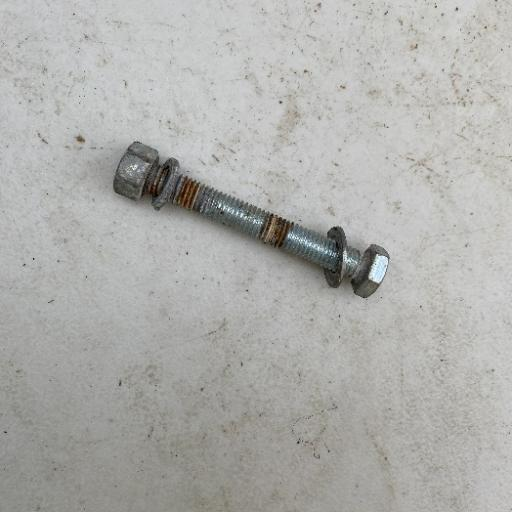Metal: (110, 138, 391, 301)
